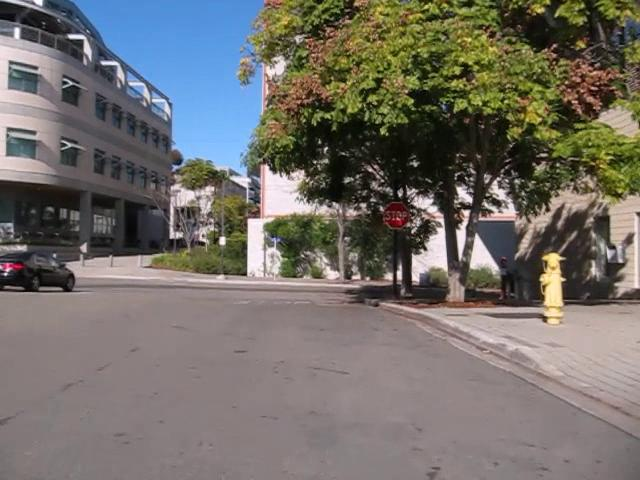stop: (382, 200, 410, 229)
